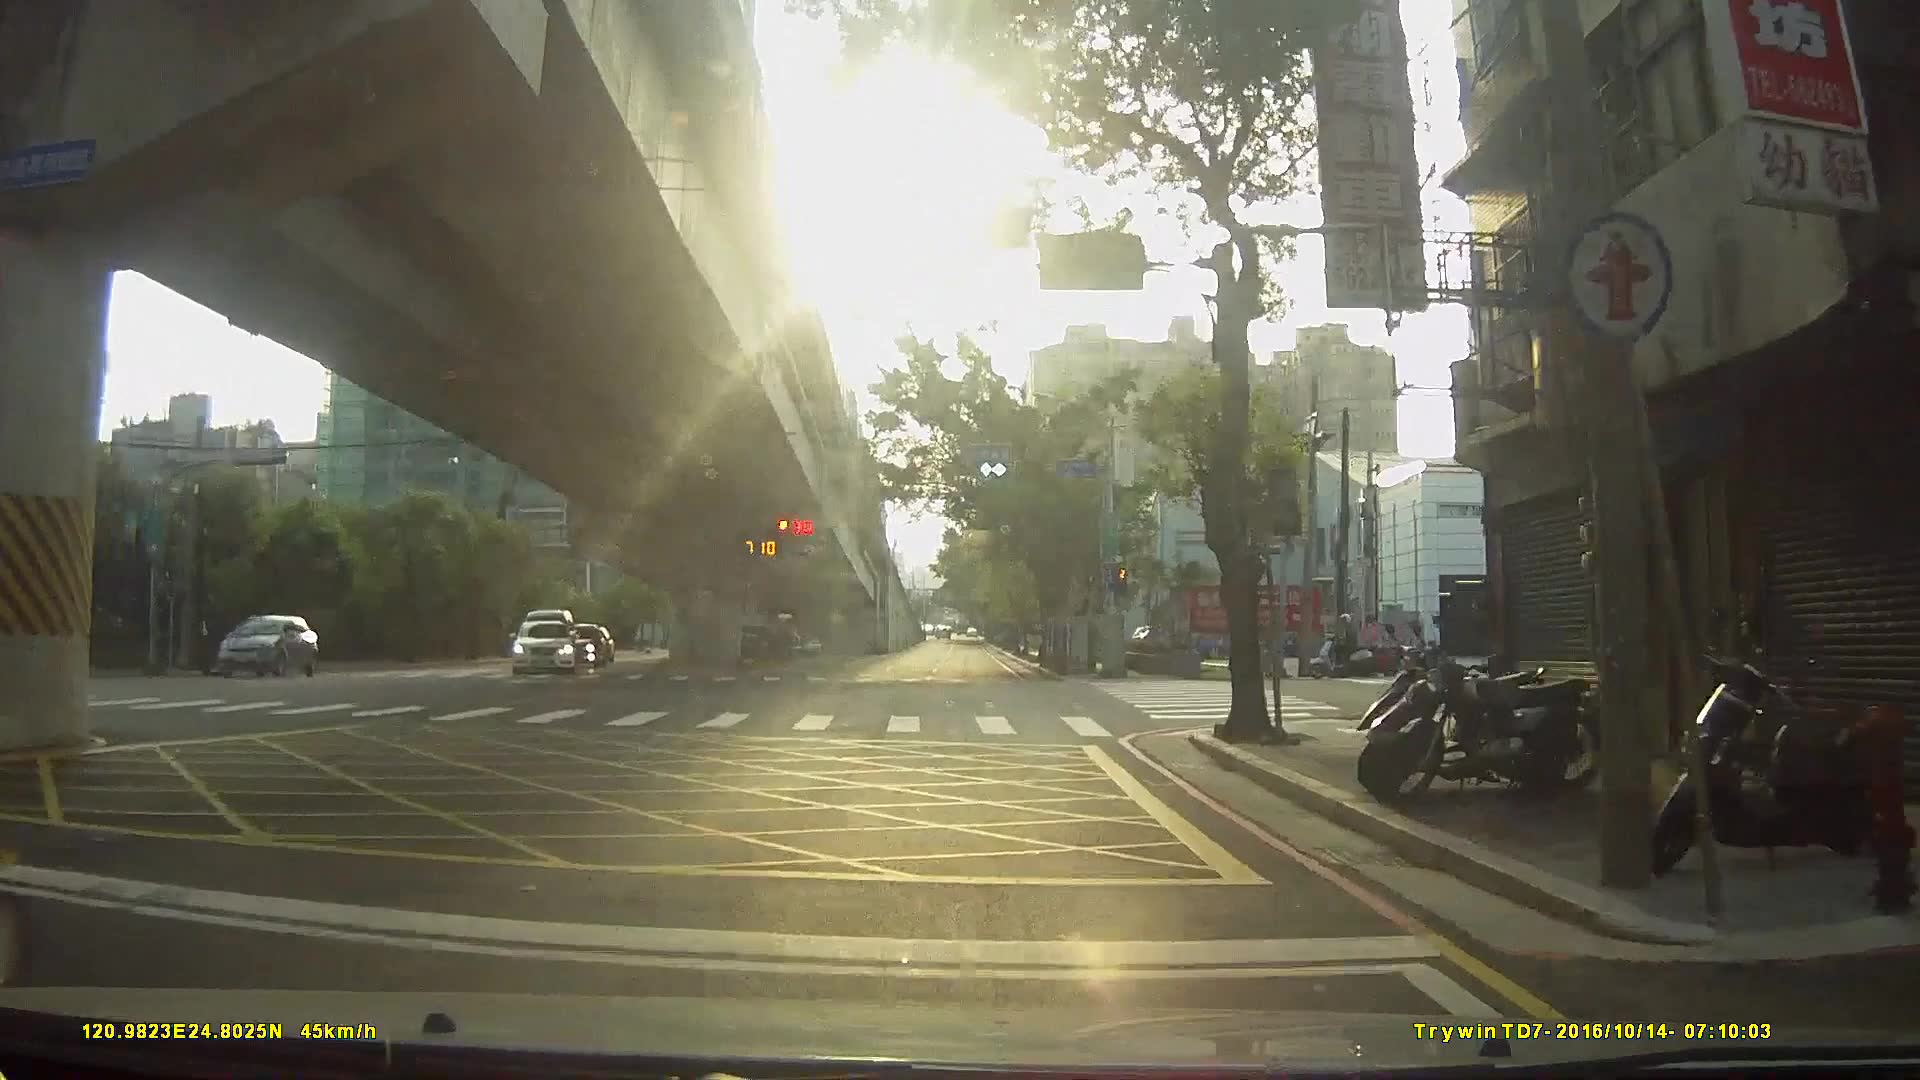rider: (1308, 612, 1376, 680)
vehicle: (202, 611, 323, 677), (503, 618, 574, 676), (713, 619, 796, 664), (552, 622, 605, 668)
